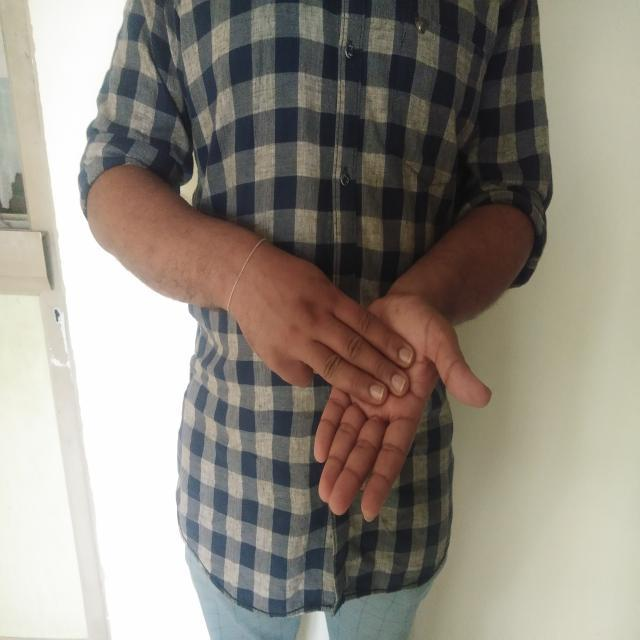M: (215, 215, 502, 543)
